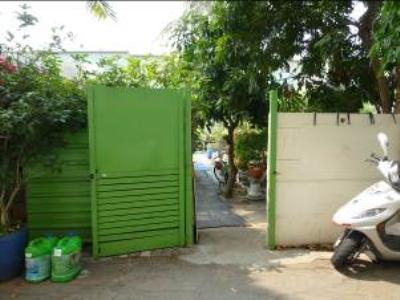bottle: (22, 231, 59, 284), (52, 232, 86, 283)
